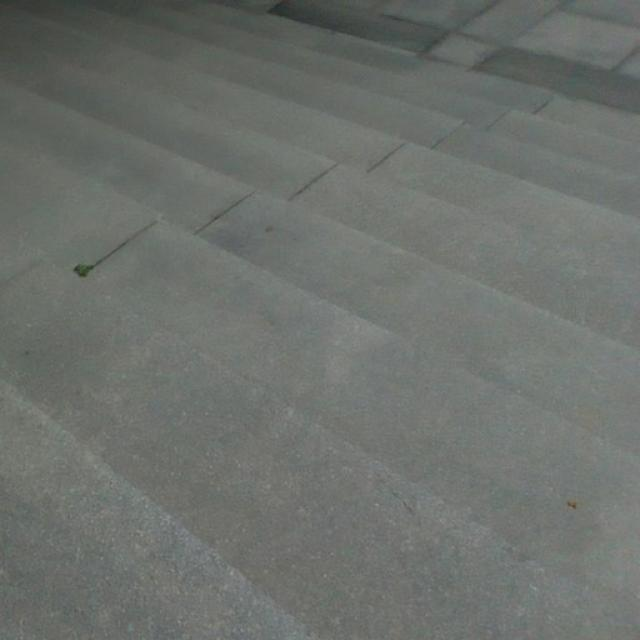stair: (17, 34, 640, 586)
